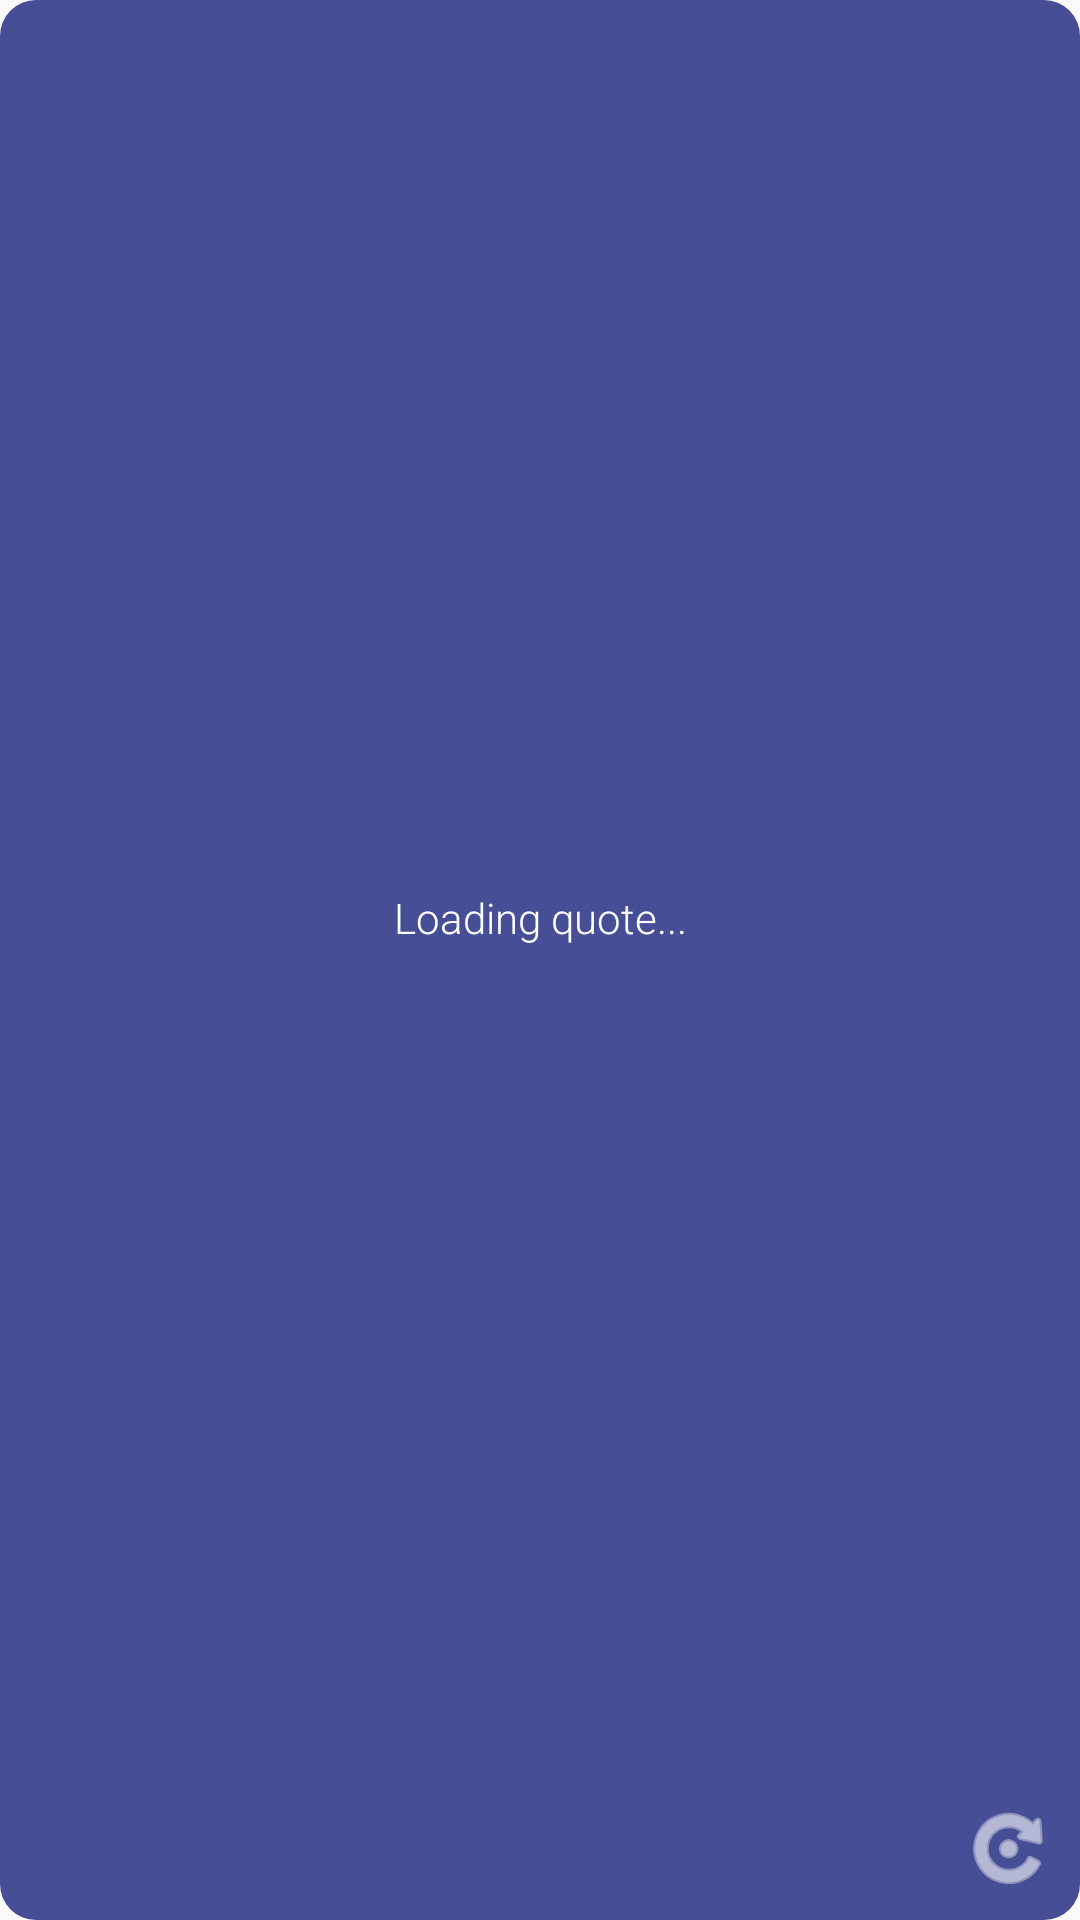

Where to tap for icons on this 1080px x 1920px app screen, as (x=x, y=y):
Refresh: (x=1008, y=1848)
